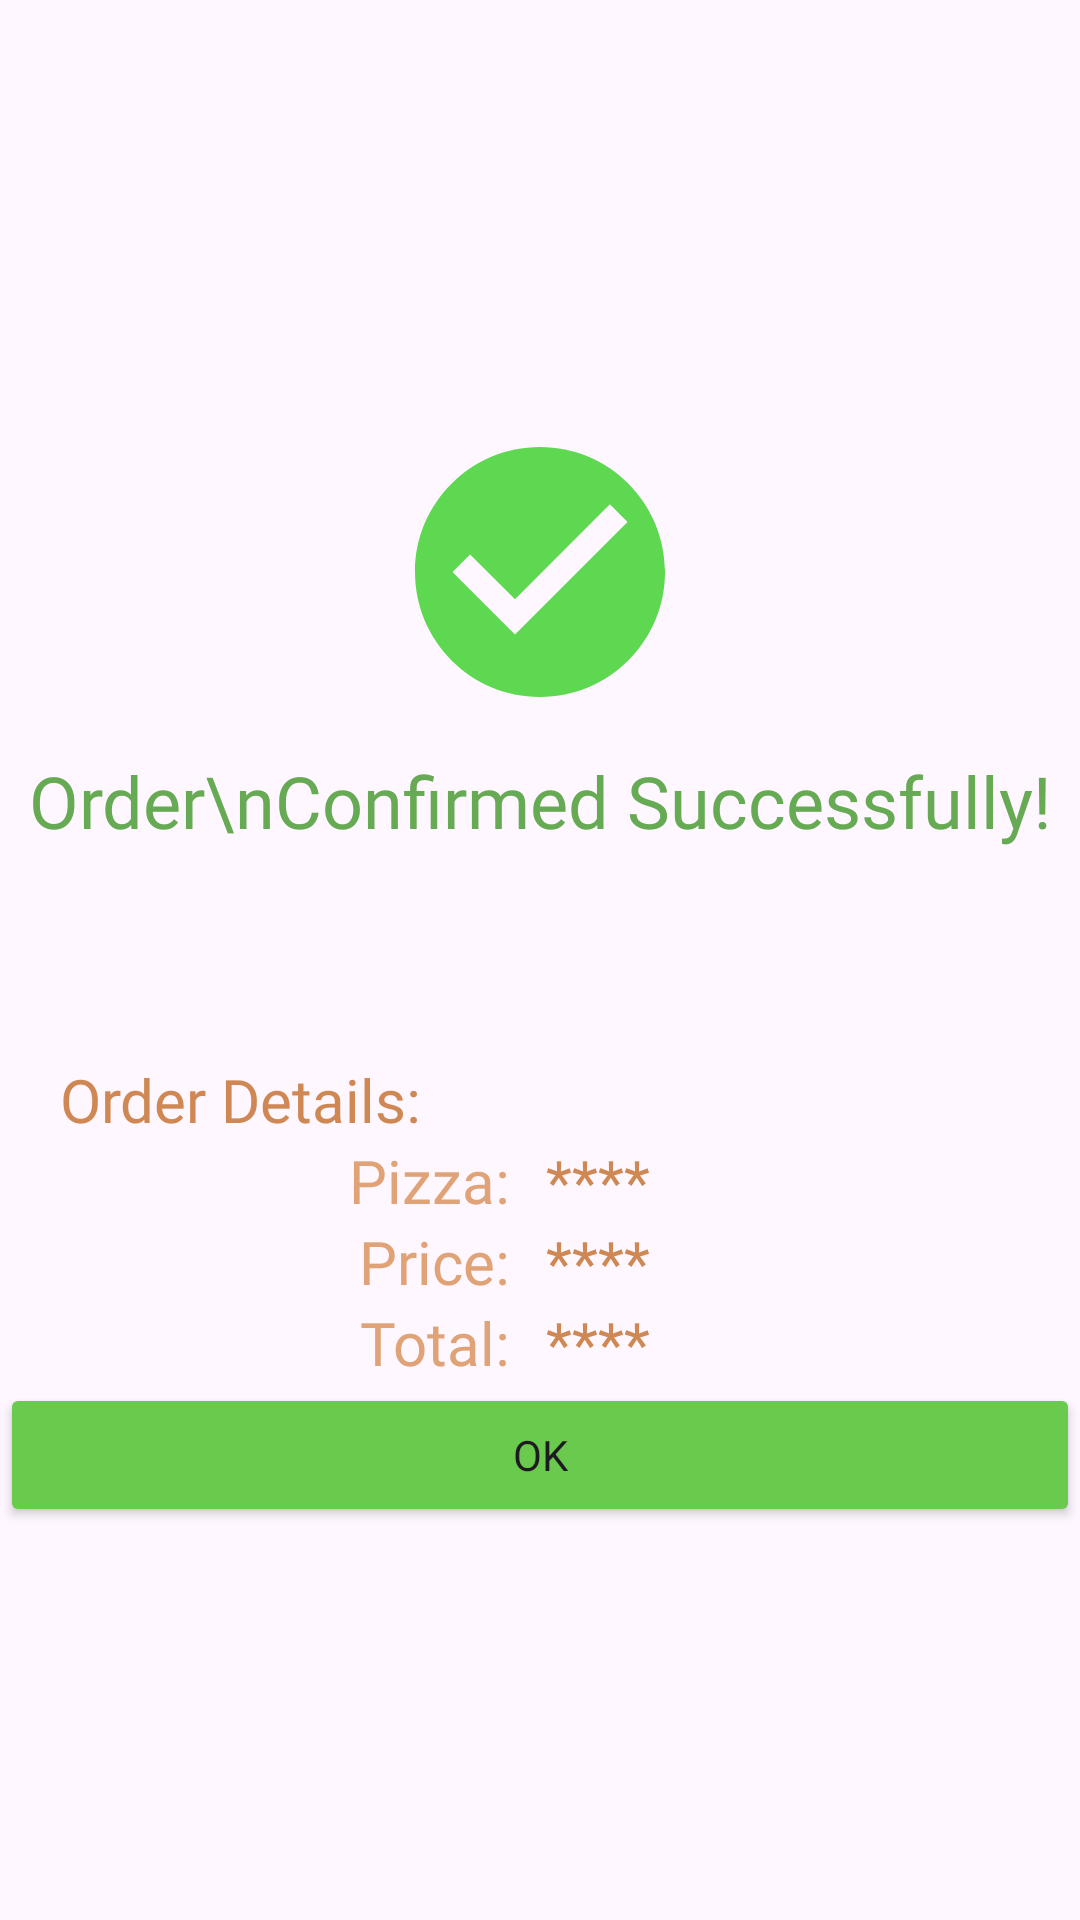

Point at icon controls on the screen. Image size 1080x1920, points as point (x, y).
check circle: point (540, 572)
